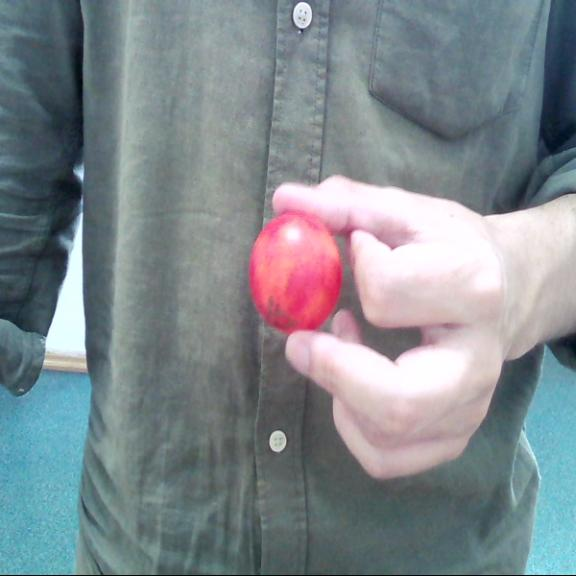ball: (252, 212, 342, 334)
